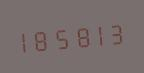eight: (35, 23, 52, 54), (72, 20, 89, 51)
five: (54, 21, 71, 53)
one: (17, 24, 34, 56), (90, 18, 107, 49)
three: (108, 16, 125, 48)
